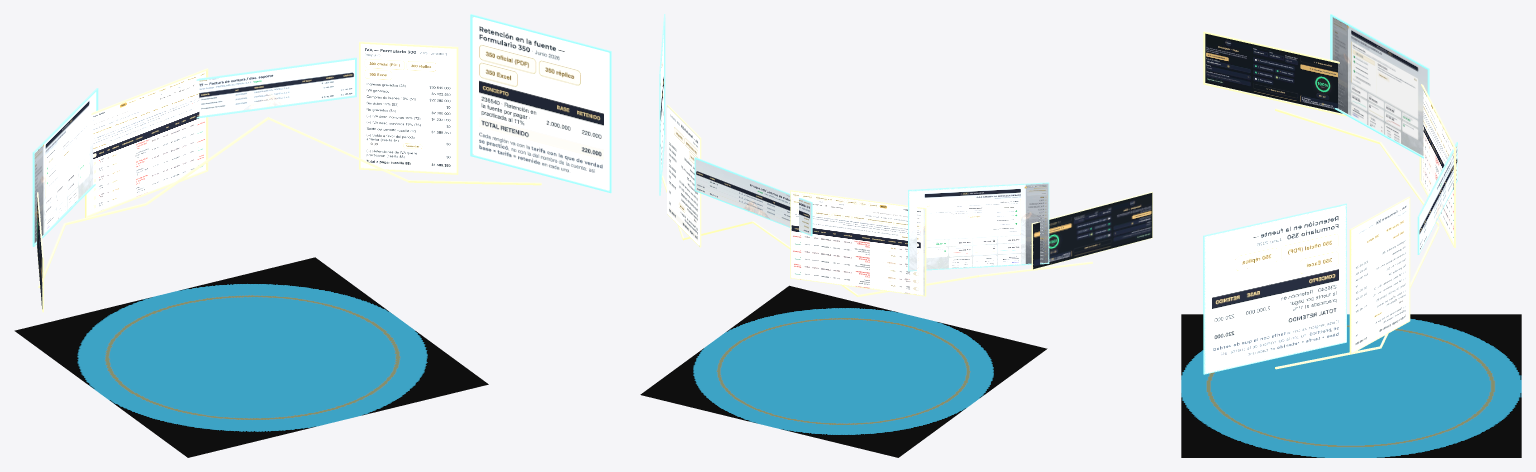
Rendered from recorrido.glb.
3 views of the same model, side by side, from view 1: azimuth 30°, elevation 25°; view 2: azimuth 150°, elevation 25°; view 3: azimuth 270°, elevation 25° (orthographic). The views are drawn at different scales.
Visible parts, largest first — view 1: Tributando, pantalla_6, pantalla_5, pantalla_3, pantalla_4, pantalla_2; view 2: Tributando, pantalla_3, pantalla_2, pantalla_1, pantalla_4, pantalla_5, pantalla_6; view 3: Tributando, pantalla_6, pantalla_2, pantalla_5, pantalla_1, pantalla_3, pantalla_4.
Boxes of the visible parts, bbox=[...] form: Tributando: bbox=[14, 117, 541, 457]; pantalla_6: bbox=[470, 14, 611, 193]; pantalla_5: bbox=[359, 41, 458, 174]; pantalla_3: bbox=[85, 68, 208, 217]; pantalla_4: bbox=[196, 57, 356, 118]; pantalla_2: bbox=[32, 88, 98, 246]; Tributando: bbox=[640, 173, 1092, 457]; pantalla_3: bbox=[790, 190, 926, 296]; pantalla_2: bbox=[908, 182, 1049, 271]; pantalla_1: bbox=[1031, 191, 1152, 269]; pantalla_4: bbox=[694, 157, 812, 236]; pantalla_5: bbox=[667, 104, 701, 247]; pantalla_6: bbox=[659, 14, 665, 195]; Tributando: bbox=[1181, 108, 1521, 457]; pantalla_6: bbox=[1203, 203, 1346, 374]; pantalla_2: bbox=[1330, 14, 1429, 158]; pantalla_5: bbox=[1349, 196, 1410, 354]; pantalla_1: bbox=[1203, 31, 1346, 116]; pantalla_3: bbox=[1419, 84, 1455, 247]; pantalla_4: bbox=[1417, 142, 1457, 254].
Bounding box in the file's own units: 3.4 × 1.67 × 1.8.
9 materials, 7 textured.
